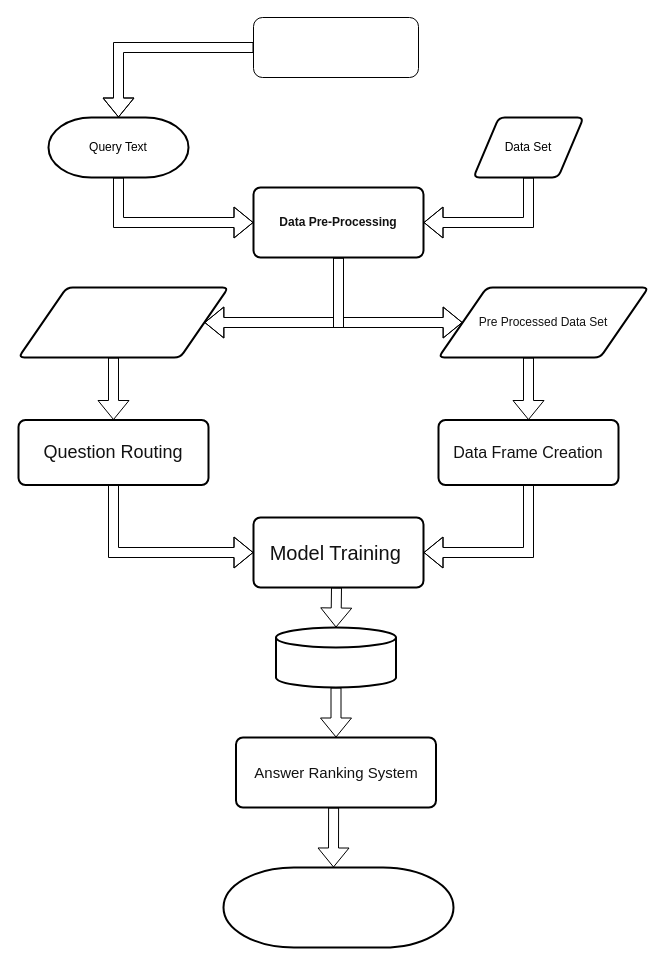
Image size: 666x966. Some labels were removed from this diagram. Each missing label, with the centre of its shape:
Answer for User Query: (x=338, y=907)
Data Base: (x=335, y=657)
Pre-Processed Query: (x=123, y=322)
User Query: (x=335, y=47)
